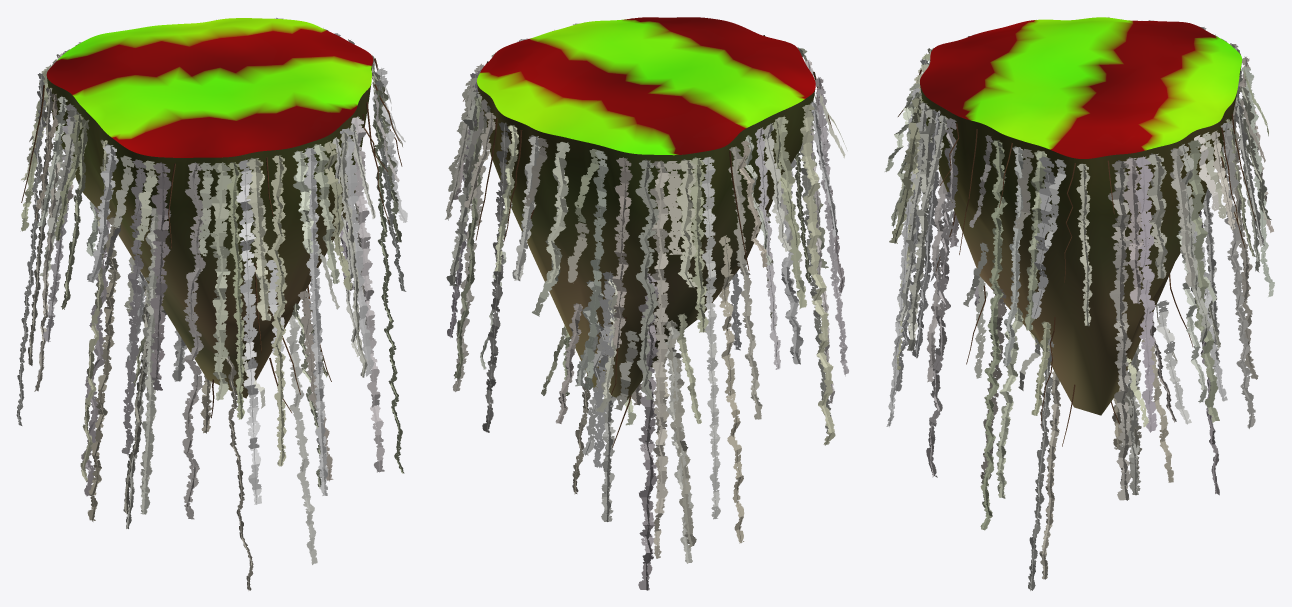
Rendered from SM_H08_Floater01.fbx.
3 renders of one model, left to right at view 1: azimuth 30°, elevation 25°; view 2: azimuth 150°, elevation 25°; view 3: azimuth 270°, elevation 25°, orthographic.
Visible parts, largest first — view 1: SM_H08_Floater01_Ivy, SM_H08_Floater01; view 2: SM_H08_Floater01_Ivy, SM_H08_Floater01; view 3: SM_H08_Floater01_Ivy, SM_H08_Floater01.
Boxes of the visible parts, x1,y1,x2,y2 form: SM_H08_Floater01_Ivy: (16,18,407,590); SM_H08_Floater01: (46,18,373,398); SM_H08_Floater01_Ivy: (445,17,848,590); SM_H08_Floater01: (477,17,815,399); SM_H08_Floater01_Ivy: (884,17,1274,590); SM_H08_Floater01: (920,17,1242,415).
Size of the model in its own units: 25.82 by 35.87 by 25.62.
